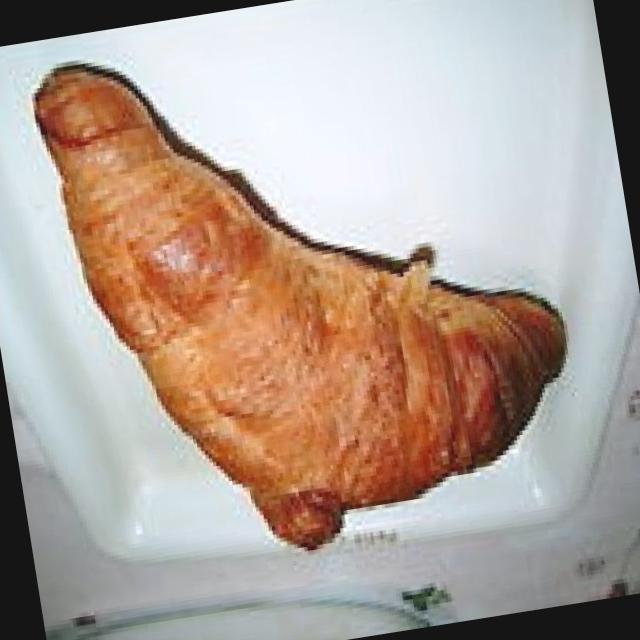Croissant: (27, 1, 584, 582)
